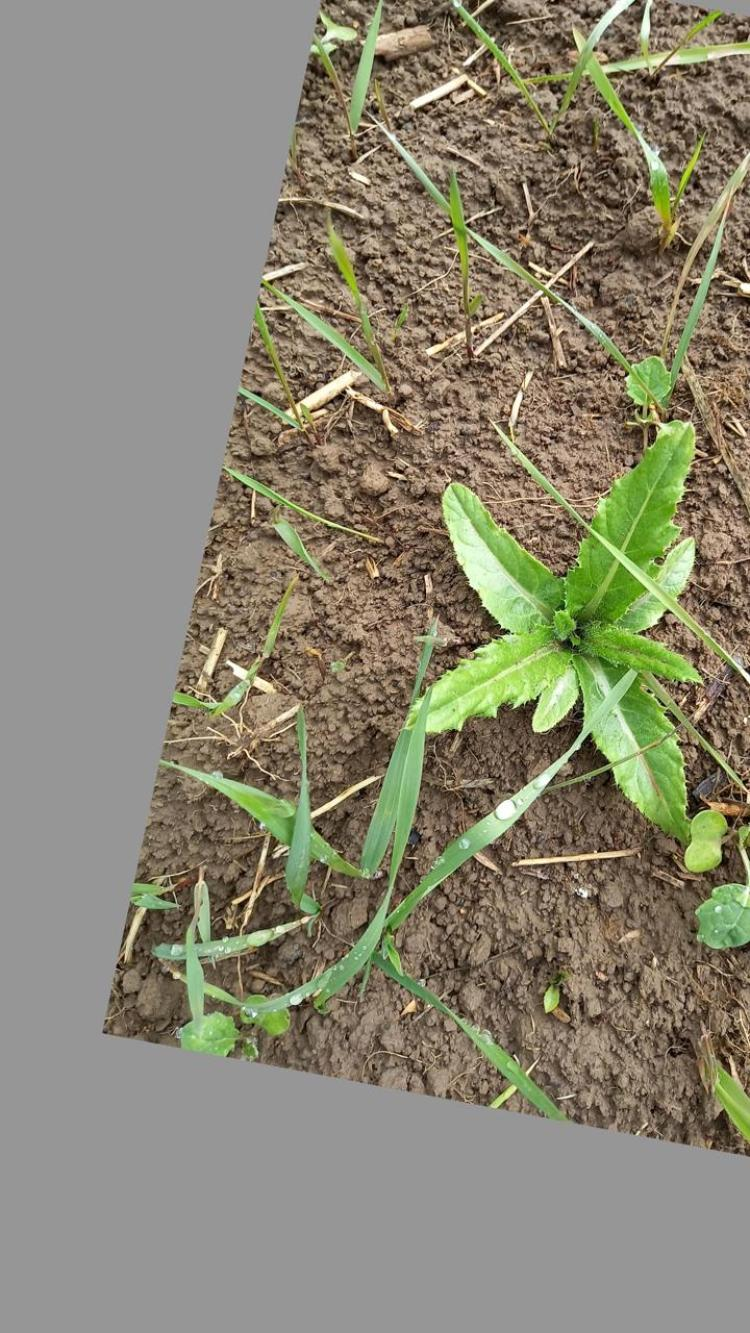bodyak: (404, 423, 702, 848)
